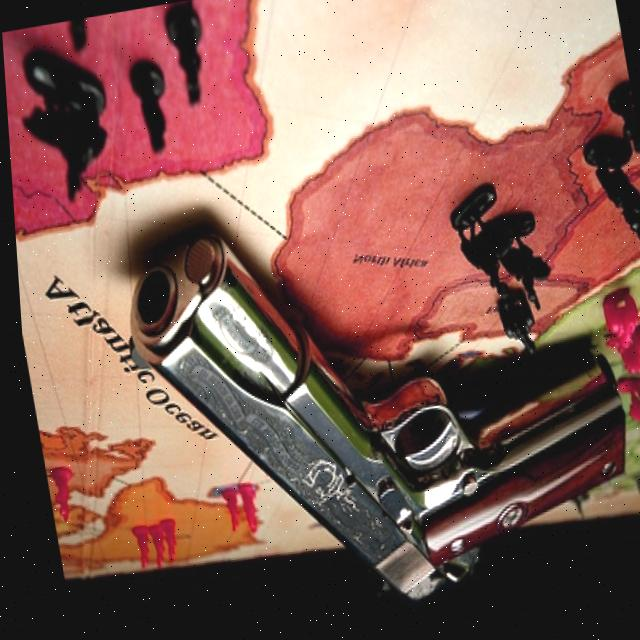pistol: (102, 157, 640, 635)
